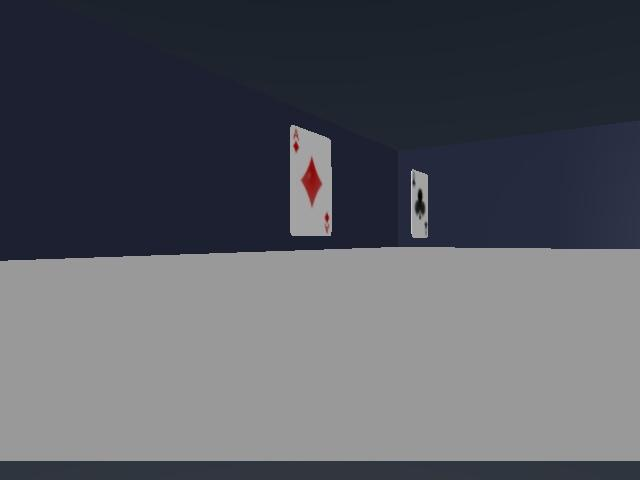club: (411, 170, 427, 237)
diamond: (290, 126, 332, 235)
